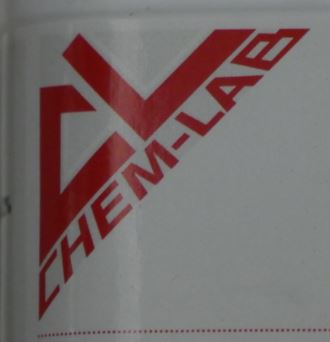ChemLab: (35, 25, 315, 324)
